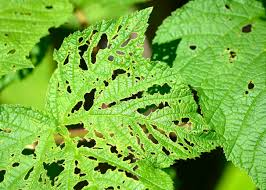Diseased_Leaves: (15, 144, 64, 185), (139, 102, 191, 133), (61, 122, 102, 152), (90, 163, 140, 180), (225, 43, 247, 75), (81, 89, 100, 112)
